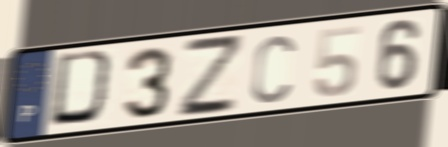3: (122, 44, 175, 121)
5: (312, 22, 364, 100)
6: (376, 17, 424, 93)
C: (248, 32, 297, 107)
D: (46, 47, 120, 129)
Z: (176, 34, 243, 121)
